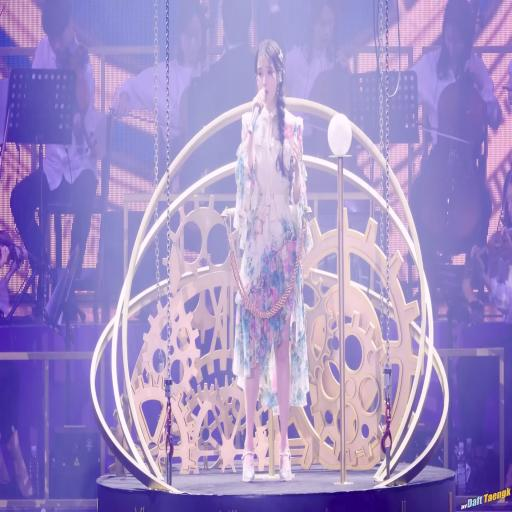IU: (254, 38, 285, 108)
